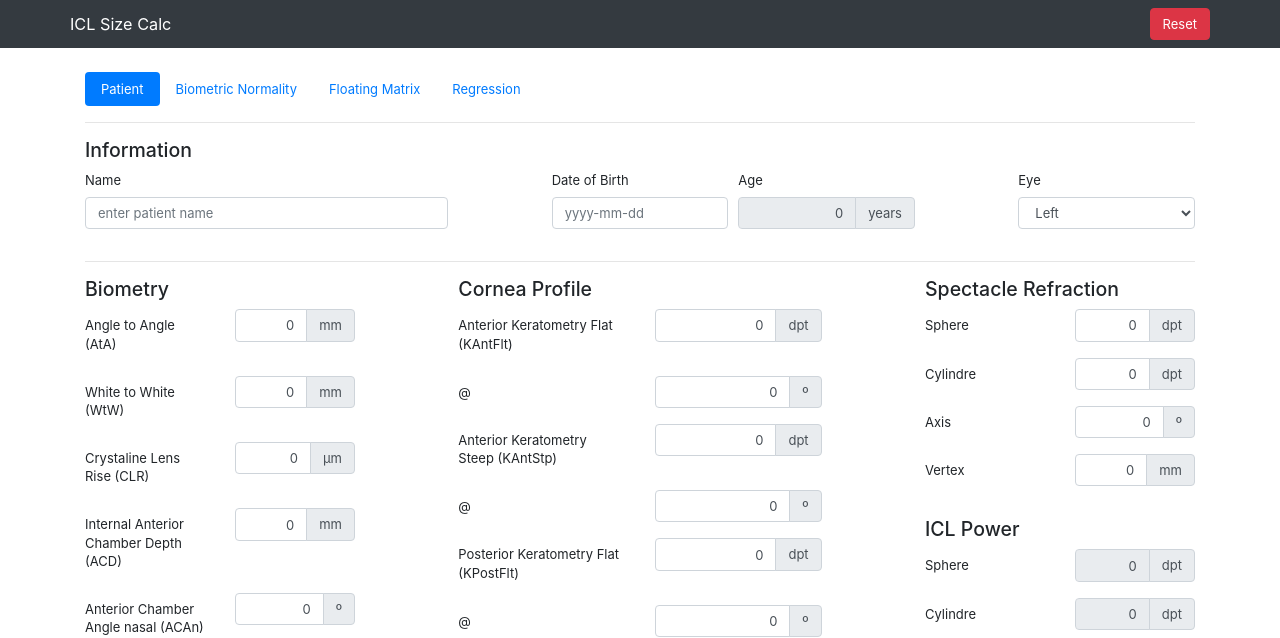
Test: switches to Floating Matrix tab when clicked
Click the link "Floating Matrix". click: {"x": 375, "y": 89}
box: [329,81,420,97]
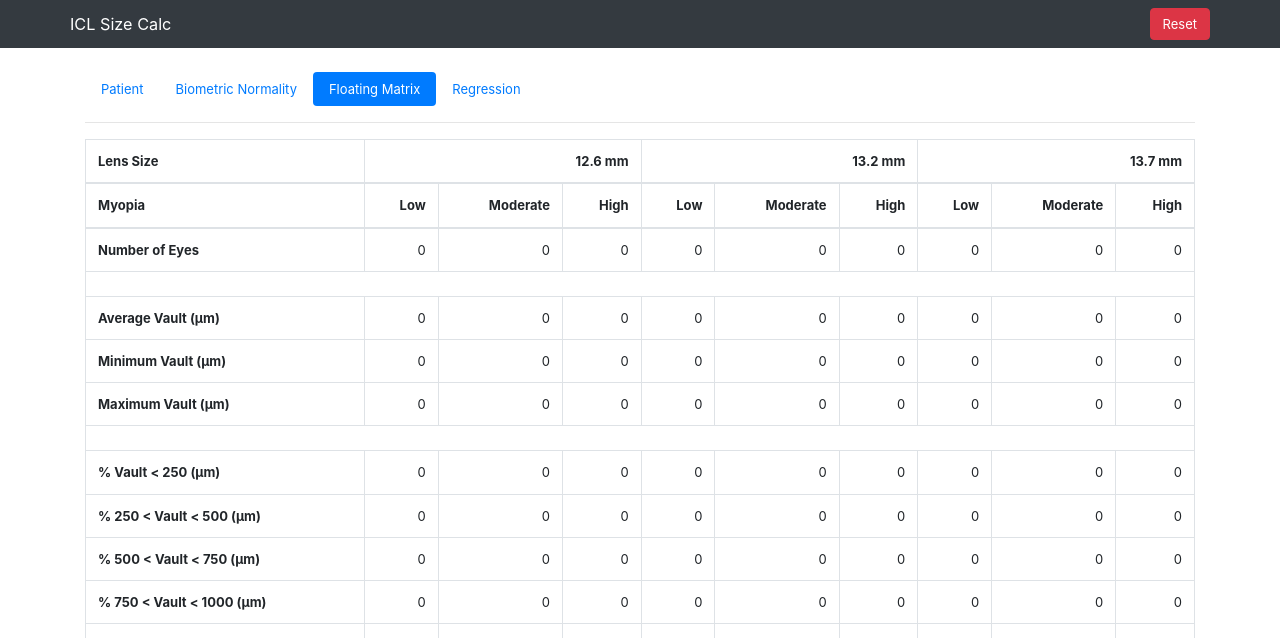
Expected: the column heading "Number of Eyes" is shown, [86,228,364,271]
Expected: the label labelled "Name" is gone
